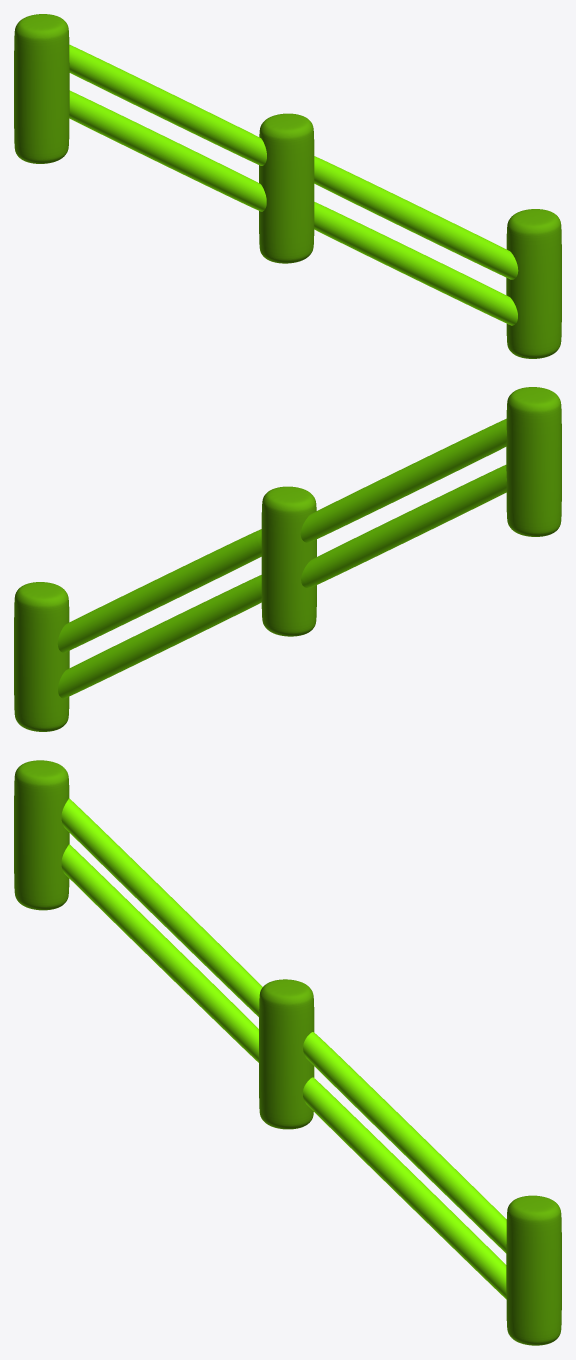
The model's file is Pembatas jalan Naik-Turun.fbx.
The picture shows the model from 3 angles, top to bottom: view 1: azimuth 30°, elevation 25°; view 2: azimuth 150°, elevation 25°; view 3: azimuth 330°, elevation 25°; orthographic projection.
Parts seen in each view (by area): view 1: Cylinder.002; view 2: Cylinder.002; view 3: Cylinder.002.
Boxes of the visible parts, bbox=[...] form: Cylinder.002: bbox=[14, 14, 561, 358]; Cylinder.002: bbox=[14, 387, 561, 731]; Cylinder.002: bbox=[14, 760, 561, 1345].
Size of the model in its own units: 1238 by 983 by 103.
